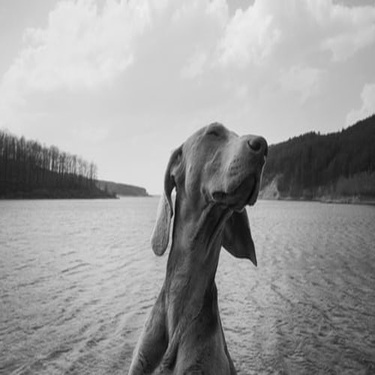dog: (130, 115, 274, 369)
